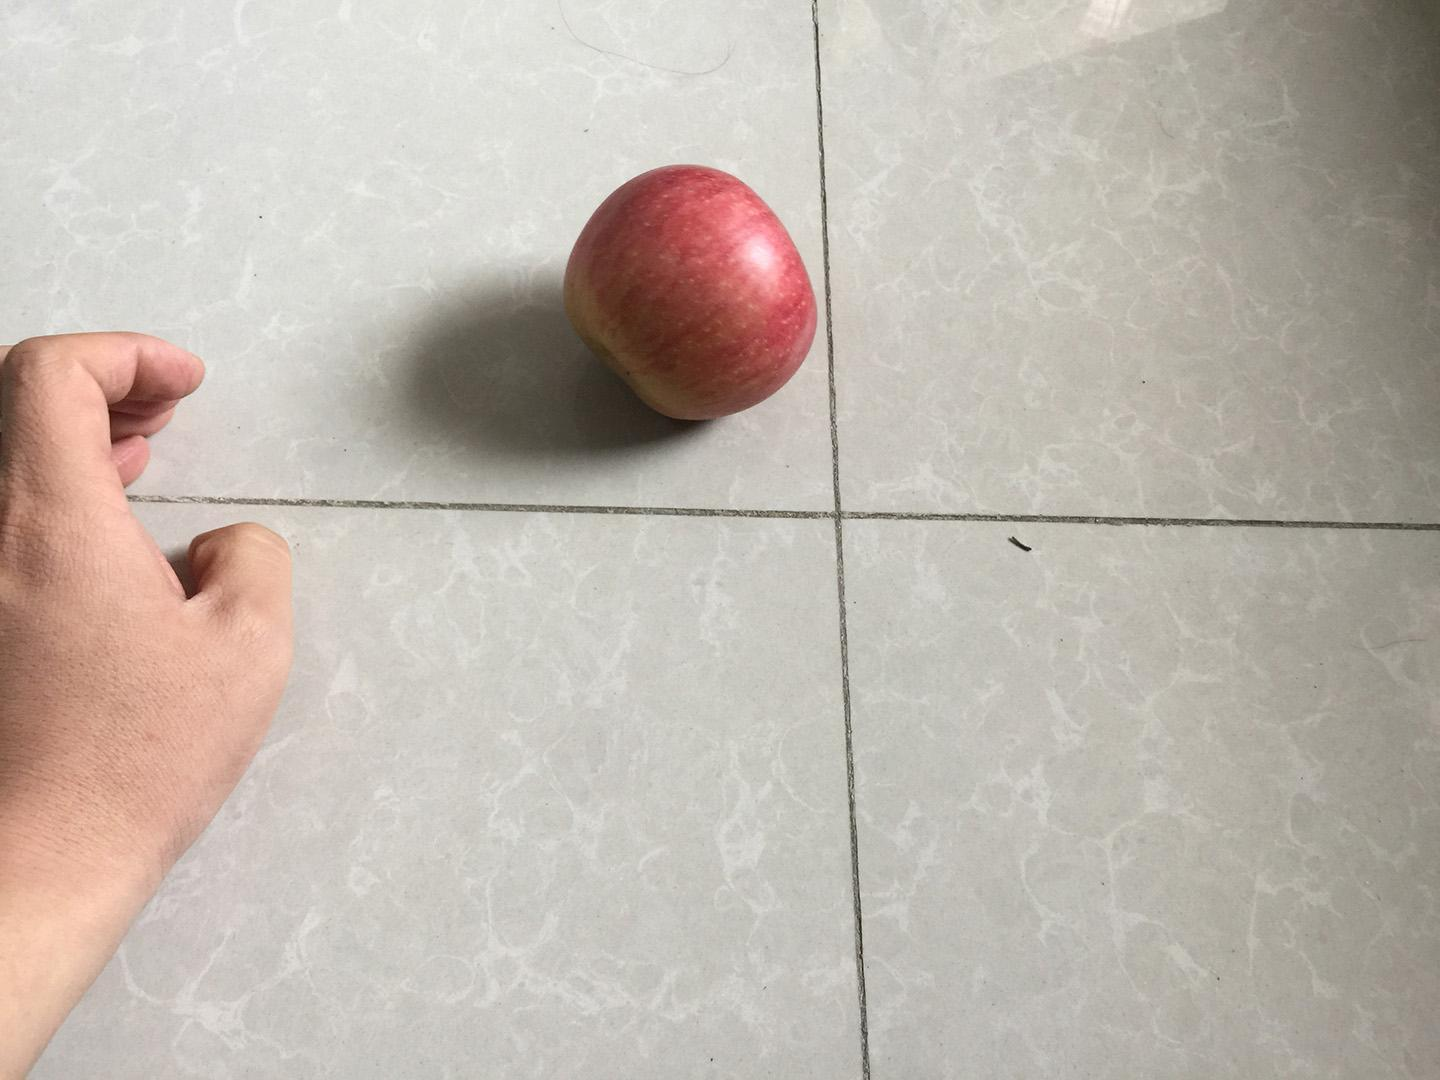apple: (556, 162, 820, 427)
